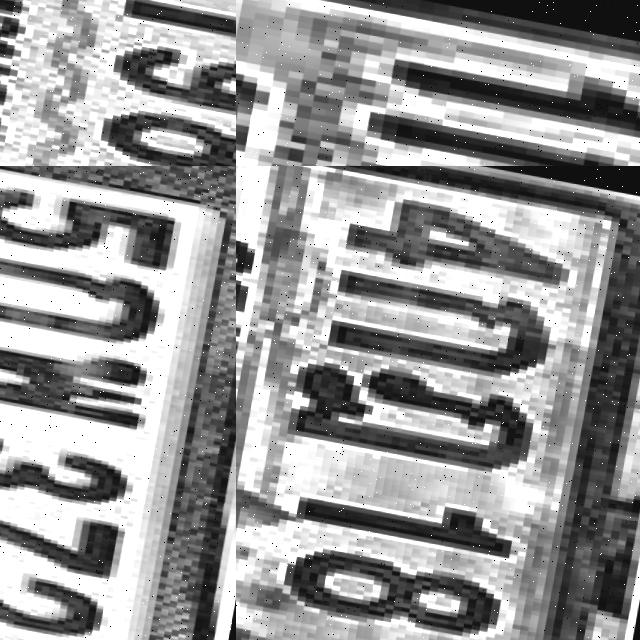license-plate: (236, 166, 640, 640), (0, 166, 236, 640), (236, 0, 640, 166), (0, 0, 236, 166)
